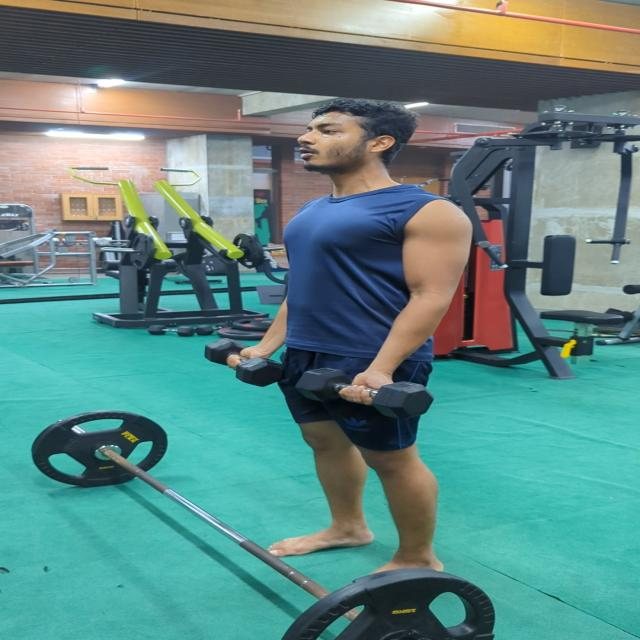Normal_DumbbellBicepCurls: (201, 100, 478, 582)
